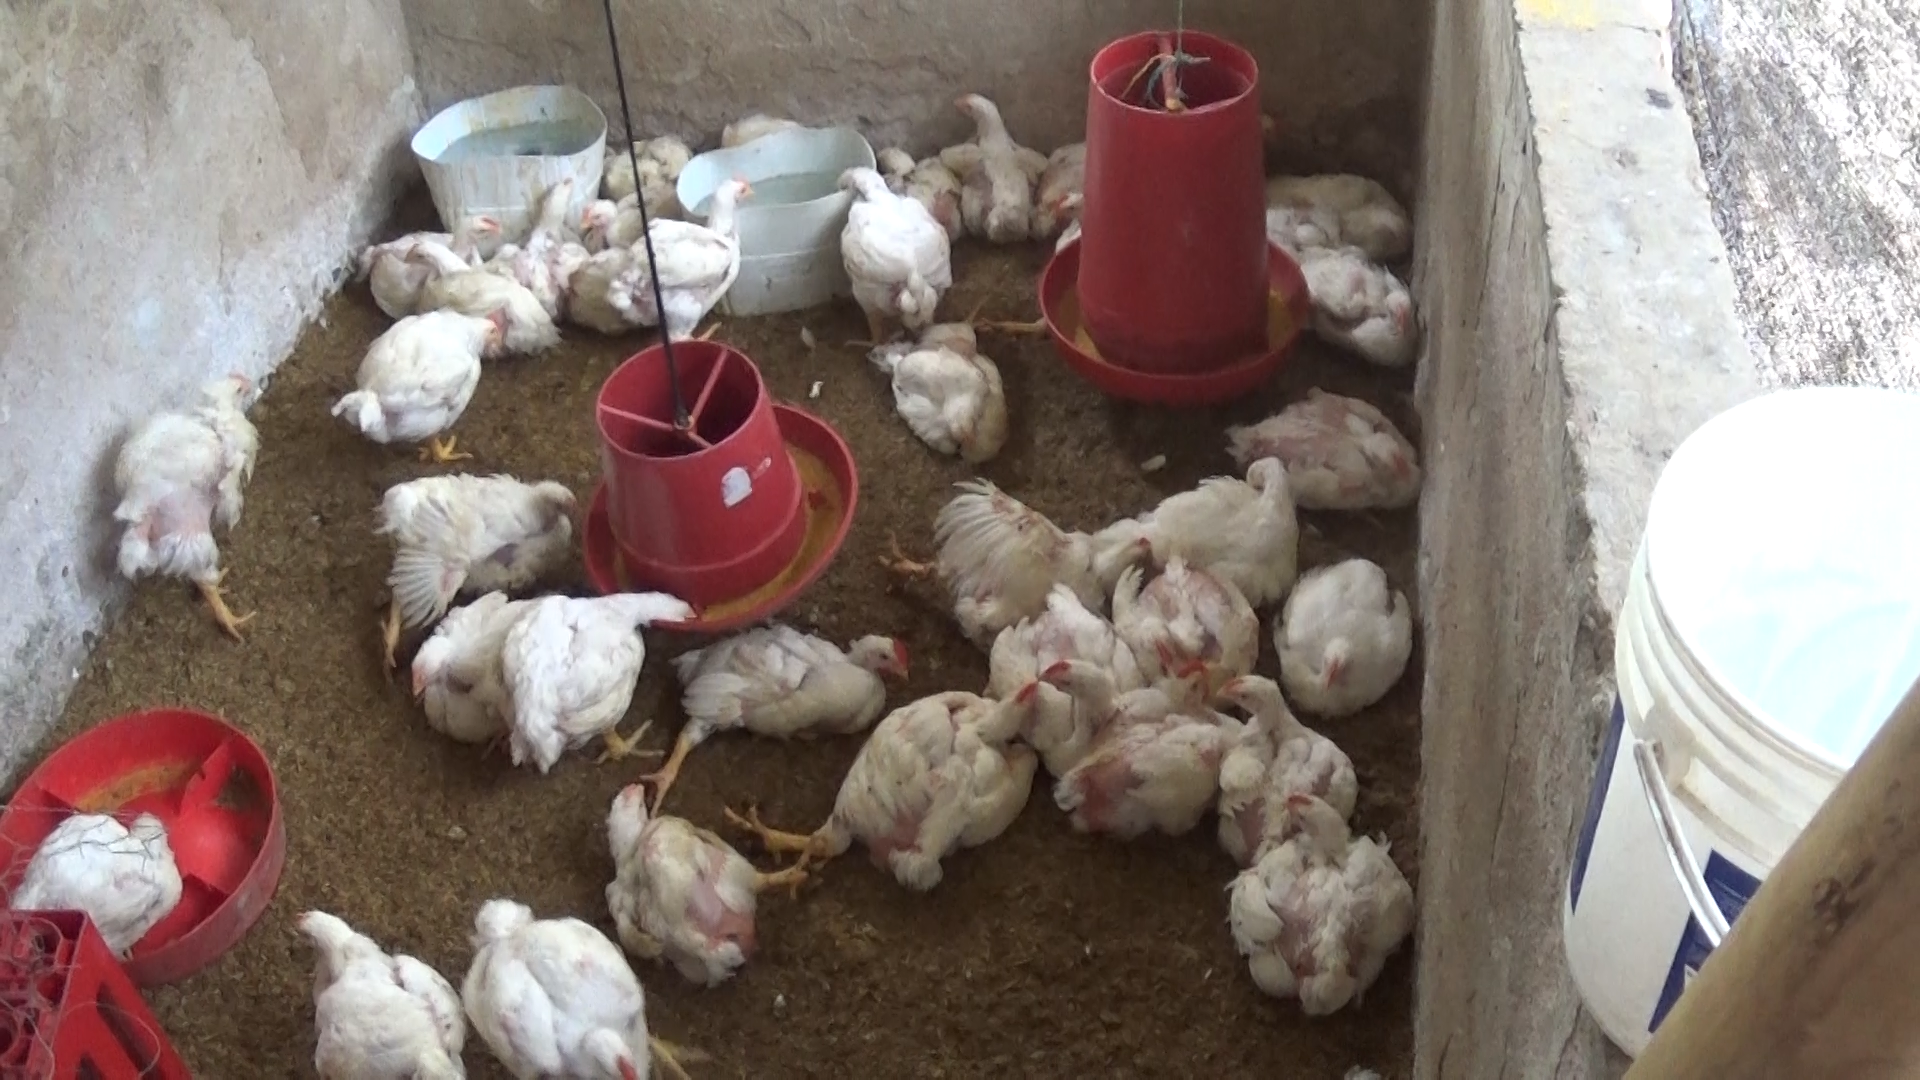Pollos: (357, 454, 585, 683), (446, 884, 702, 1079), (816, 684, 1046, 876), (1222, 787, 1408, 1011), (644, 626, 906, 781), (125, 372, 265, 649), (587, 785, 785, 975), (274, 902, 465, 1080), (526, 567, 702, 753), (1212, 655, 1364, 848), (1221, 378, 1431, 517), (22, 796, 200, 948), (993, 580, 1139, 762), (1269, 542, 1422, 712), (1064, 694, 1251, 832), (324, 307, 508, 447), (406, 583, 551, 757), (624, 173, 760, 352), (819, 164, 956, 336), (1113, 547, 1261, 704), (884, 313, 1030, 465), (922, 82, 1036, 245), (1291, 225, 1431, 359), (336, 195, 491, 313), (398, 245, 560, 348), (570, 189, 680, 260), (531, 173, 593, 282), (1036, 183, 1110, 262)
